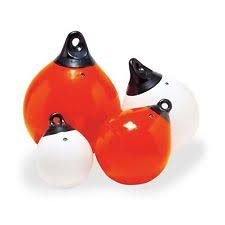buoy: (23, 61, 121, 153), (95, 107, 171, 184)
